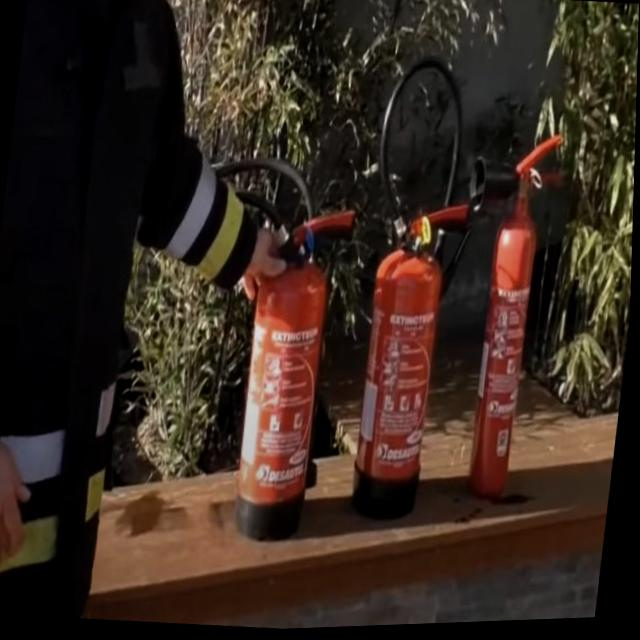FireExtinguisher: (158, 143, 366, 556), (331, 43, 499, 534), (430, 119, 583, 511)
